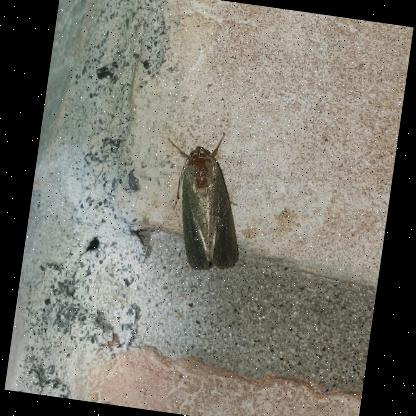Fall Armyworm Moth: (146, 122, 256, 276)
